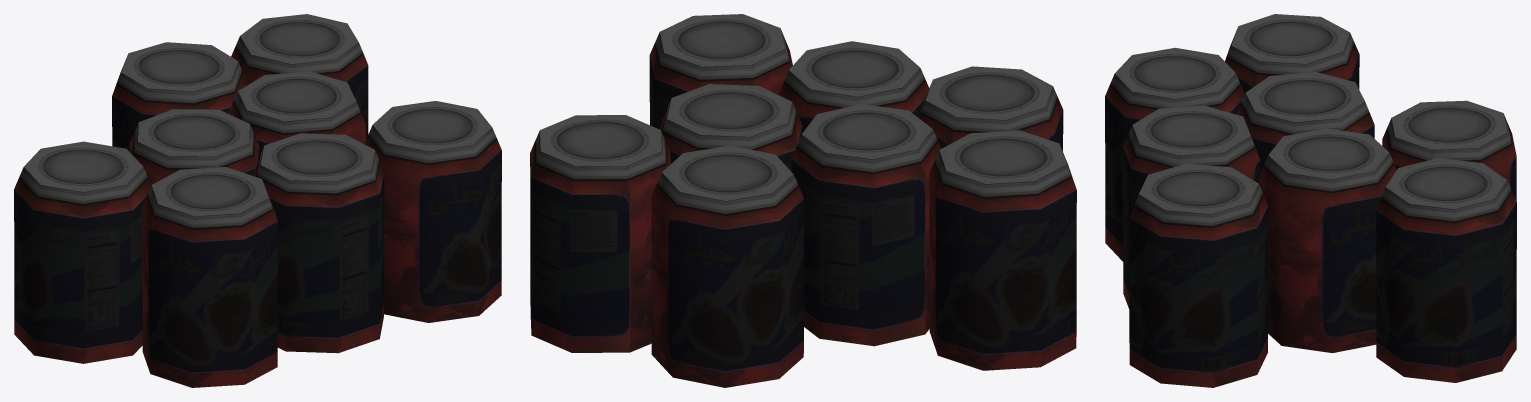
The model's file is p6_pak_food_jar_stack_05_lod1.glb.
3 views of the same model, side by side, from view 1: azimuth 30°, elevation 25°; view 2: azimuth 150°, elevation 25°; view 3: azimuth 270°, elevation 25° (orthographic). The views are drawn at different scales.
Parts seen in each view (by area): view 1: surf0; view 2: surf0; view 3: surf0.
Part boxes in pixels (x1=…): surf0: x1=14, y1=14, x2=501, y2=387; surf0: x1=530, y1=14, x2=1076, y2=387; surf0: x1=1105, y1=14, x2=1516, y2=387.
Bounding box in the file's own units: 17.25 × 6.56 × 14.42.
